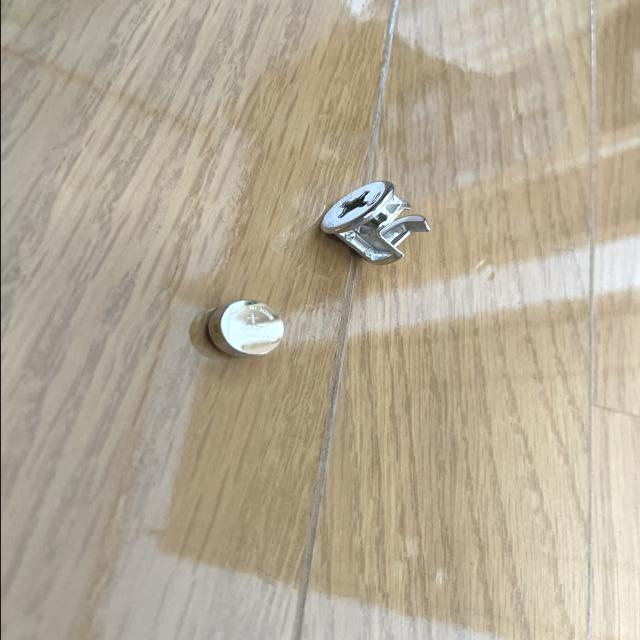COIN: (206, 300, 284, 358)
